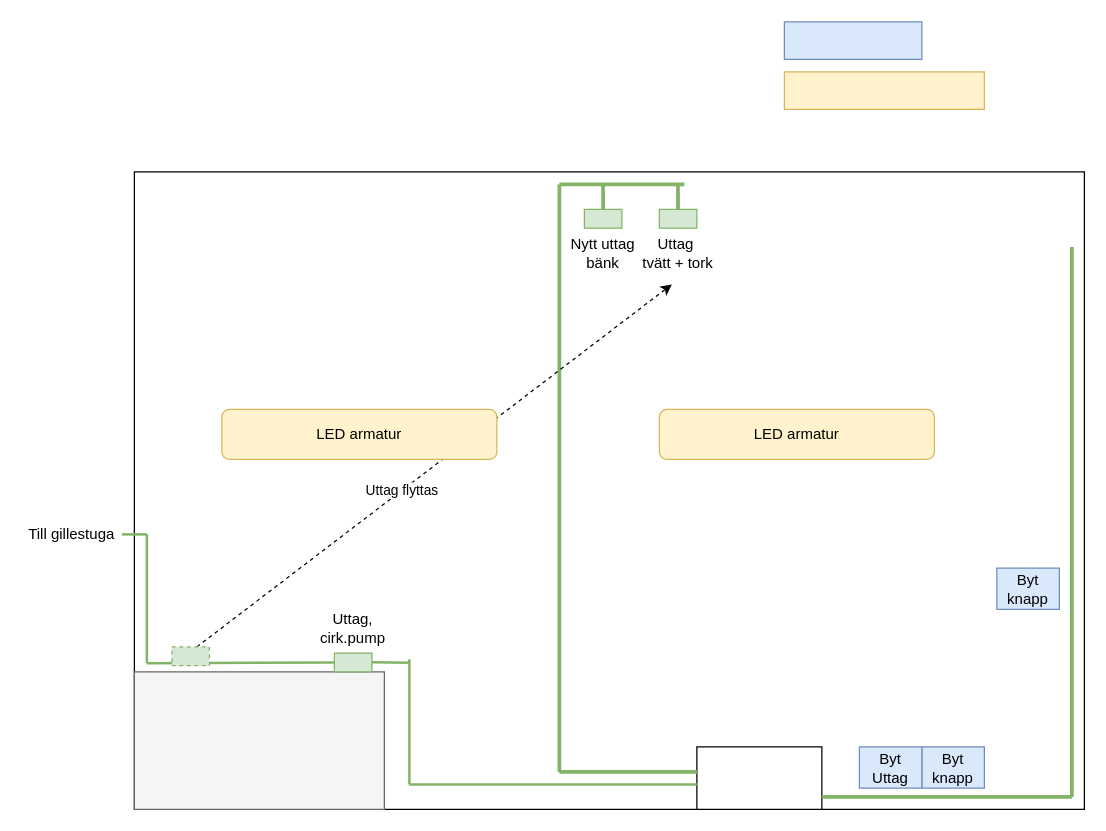
Image size: 1106x831. Some labels were removed from this diagram. Each missing label, with the centre of its shape:
"Elcentral" belongs at pixel 759 777.
"Knappar uttag: Schneider Exacct vit" belongs at pixel 852 40.
"Nya takarmaturer LED (dosor/ström finns i tak)" belongs at pixel 883 90.
